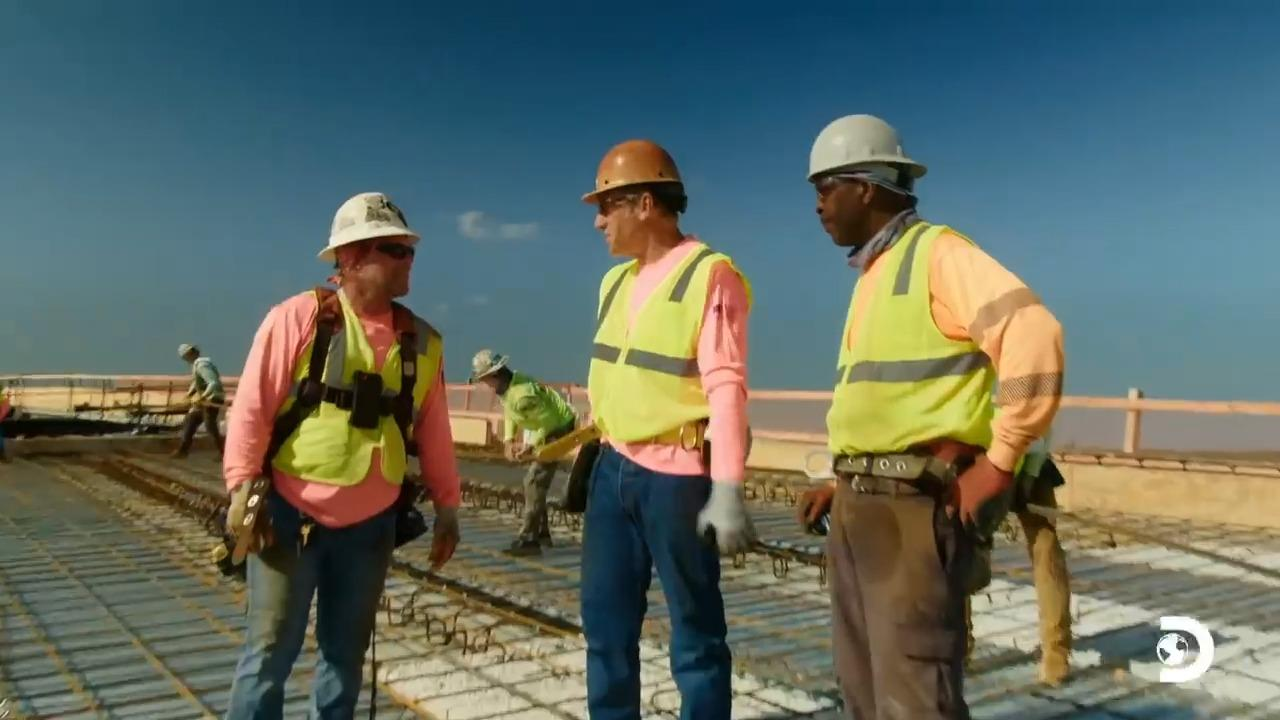Gloves: (955, 444, 1016, 541), (693, 484, 751, 555), (225, 488, 274, 555), (420, 507, 466, 561)
Helmet: (806, 113, 927, 185), (316, 191, 420, 262), (580, 138, 683, 204), (467, 348, 508, 384), (177, 342, 199, 358)
Person: (797, 112, 1069, 719), (221, 191, 461, 719), (575, 138, 755, 719), (468, 348, 579, 556), (169, 342, 225, 461)
Safety Boot: (498, 535, 546, 553)
Safety Vest: (262, 327, 419, 491), (845, 275, 973, 465), (601, 279, 713, 429), (507, 384, 557, 431), (194, 364, 218, 404)
